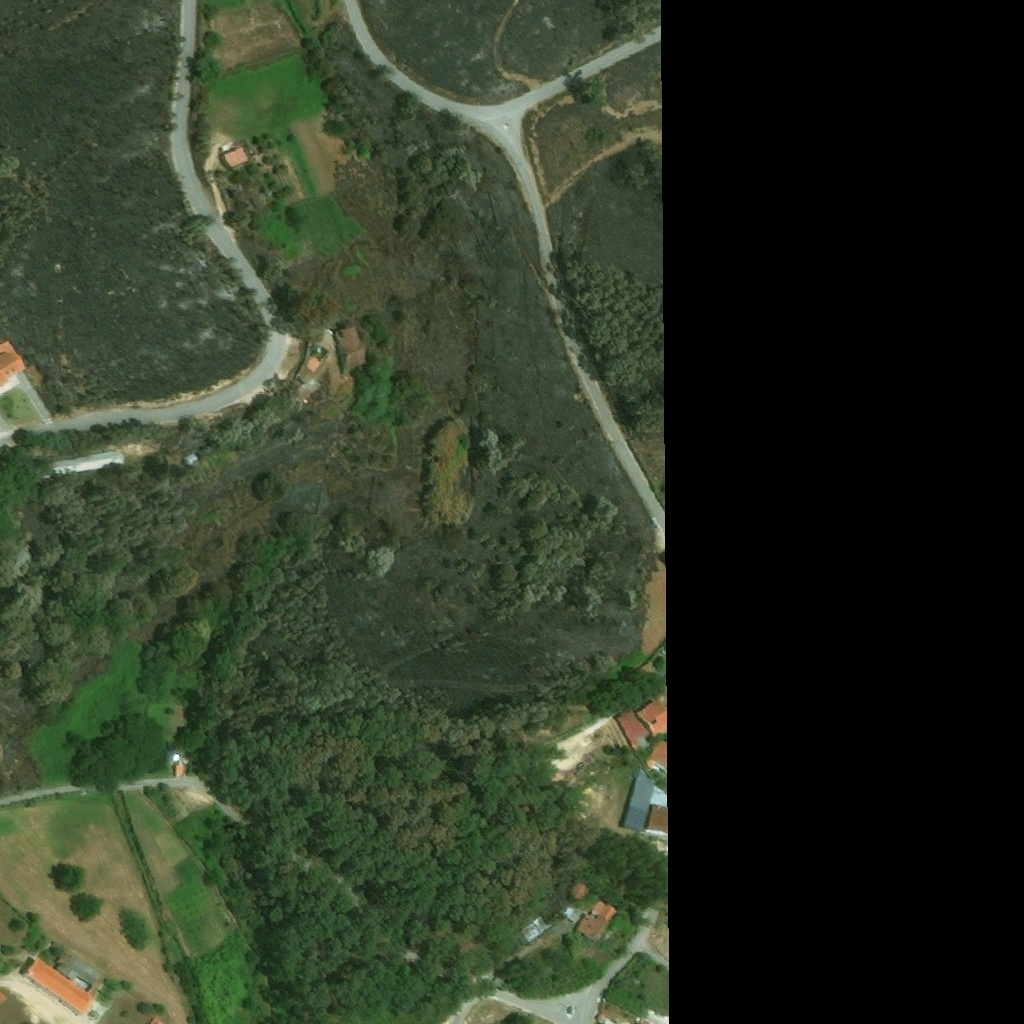0 no-damage: (23, 956, 97, 1015), (618, 768, 672, 841), (573, 898, 619, 942), (333, 321, 369, 372), (615, 709, 651, 753), (635, 698, 671, 737), (0, 339, 27, 388), (645, 738, 672, 777), (218, 145, 251, 173), (521, 913, 554, 940), (295, 354, 323, 385), (567, 879, 591, 904), (563, 903, 582, 921), (174, 766, 185, 776)
4 un-classified: (0, 986, 8, 1006)
